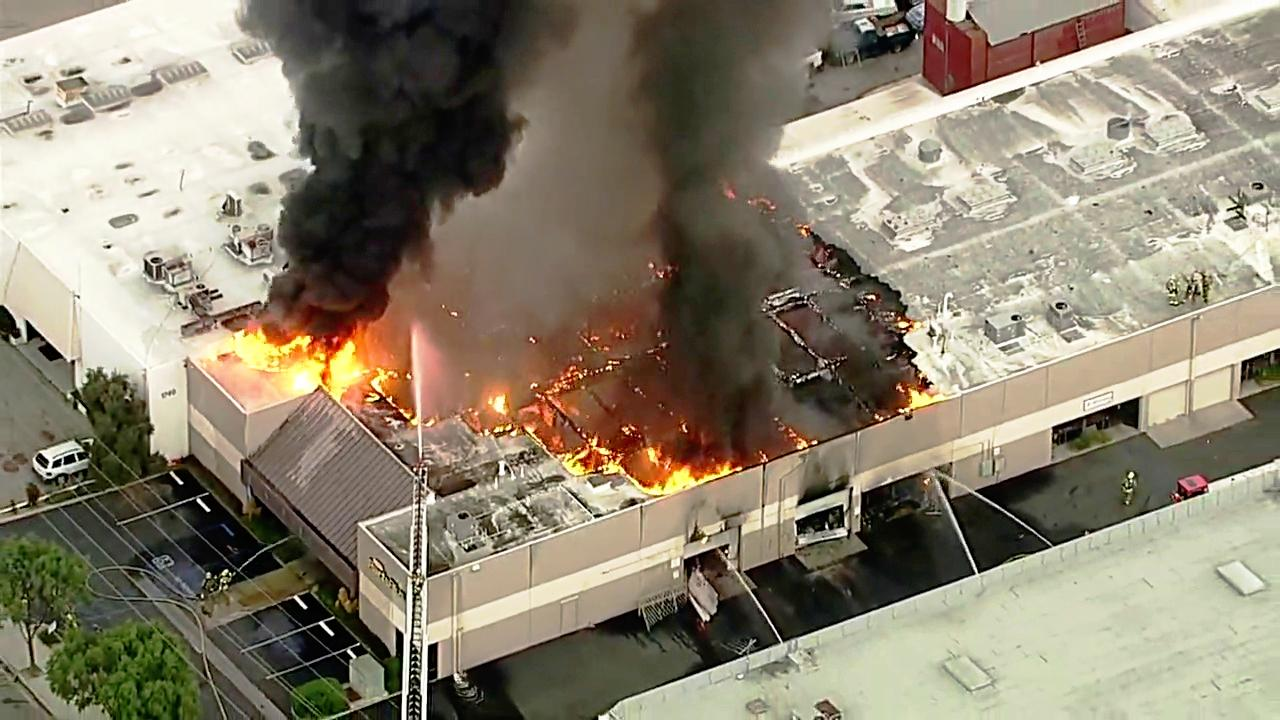smoke: (280, 0, 568, 333), (697, 0, 811, 428)
